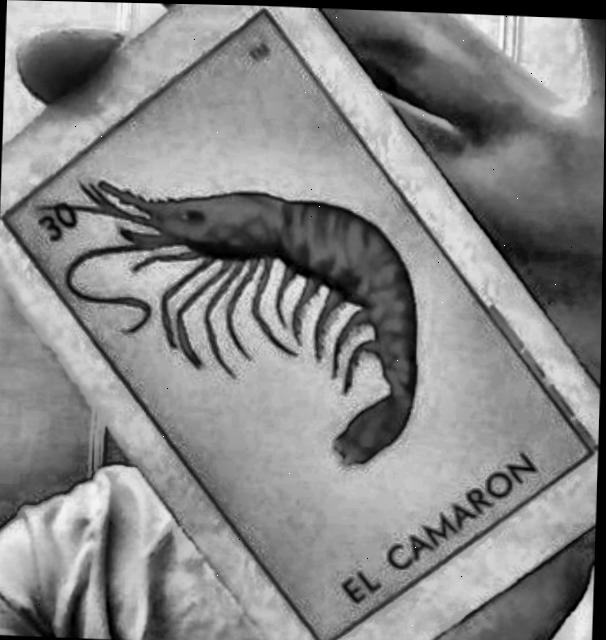El Camaron: (4, 13, 596, 640)
